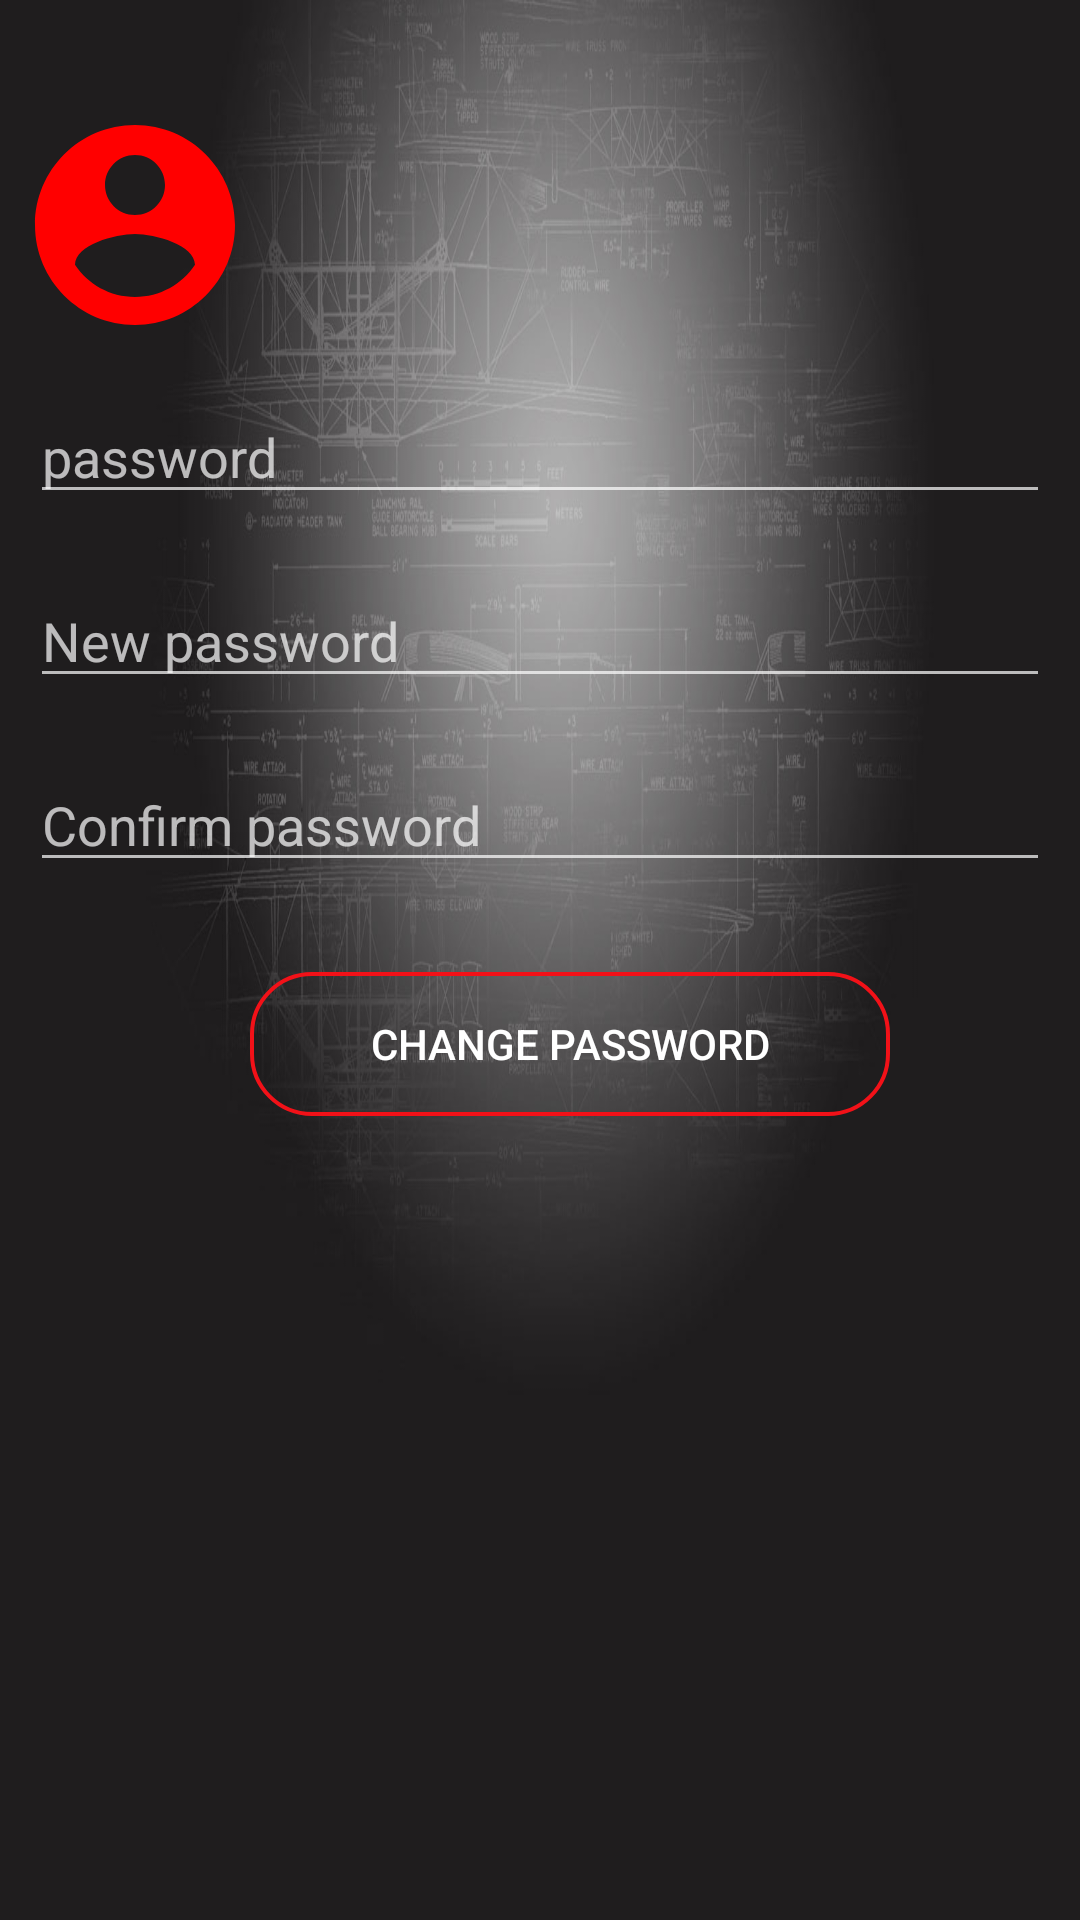

Point at icon controls on the screen. Image size 1080w x 1920h, points as point (x, y).
account circle: point (144, 235)
